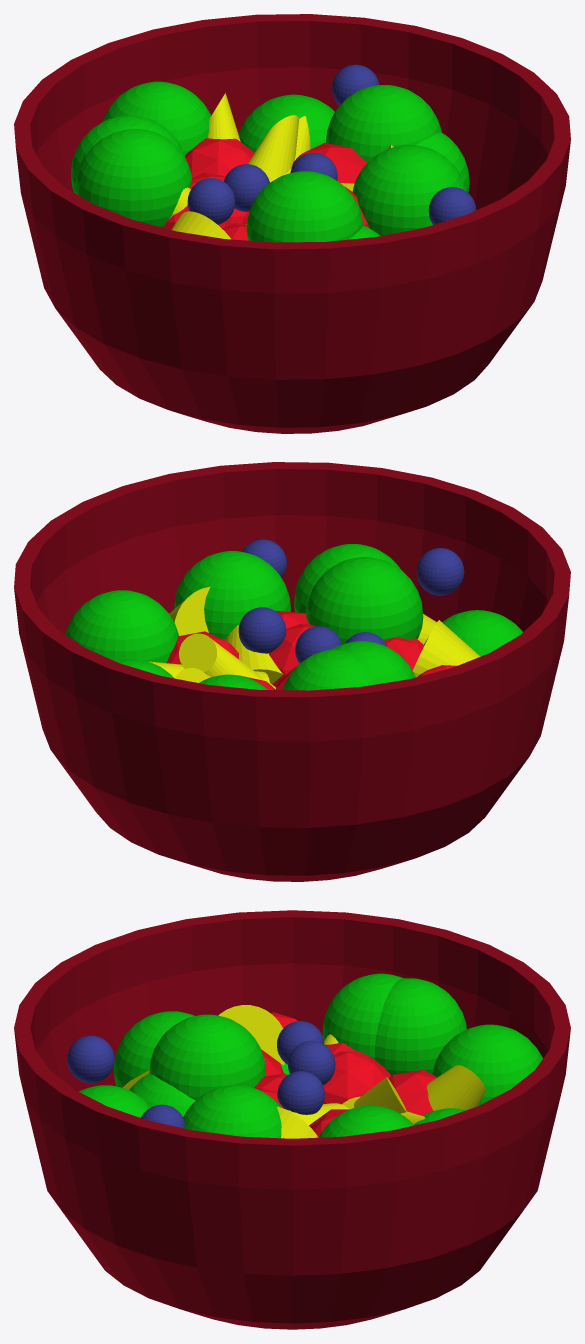
File: Saladier.fbx
3 renders of one model, top to bottom at view 1: azimuth 30°, elevation 25°; view 2: azimuth 150°, elevation 25°; view 3: azimuth 270°, elevation 25°, orthographic.
Visible parts, largest first — view 1: Cylinder, Sphere.002, Sphere.022, Sphere.029, Sphere.001, Sphere.030, Sphere.031, Cylinder.008, Icosphere.014, Sphere.021, Sphere.019, Sphere.004 (+7 smaller); view 2: Cylinder, Sphere.029, Sphere.001, Sphere.022, Sphere.021, Sphere.020, Cylinder.008, Sphere.023, Cylinder.007, Sphere.016, Sphere.002, Sphere.027 (+8 smaller); view 3: Cylinder, Sphere.029, Sphere.021, Sphere.030, Sphere.022, Sphere.002, Sphere.020, Icosphere, Cylinder.002, Sphere.001, Sphere.016, Sphere.027 (+9 smaller).
Part boxes in pixels (bbox=[...]): Cylinder: bbox=[14, 14, 570, 433]; Sphere.002: bbox=[75, 129, 192, 227]; Sphere.022: bbox=[352, 145, 466, 235]; Sphere.029: bbox=[246, 171, 363, 242]; Sphere.001: bbox=[326, 85, 441, 162]; Sphere.030: bbox=[103, 81, 211, 155]; Sphere.031: bbox=[238, 94, 334, 152]; Cylinder.008: bbox=[248, 115, 298, 178]; Icosphere.014: bbox=[185, 138, 254, 177]; Sphere.021: bbox=[71, 115, 185, 193]; Sphere.019: bbox=[187, 178, 235, 224]; Sphere.004: bbox=[224, 164, 269, 211]; Cylinder: bbox=[14, 462, 570, 881]; Sphere.029: bbox=[306, 557, 423, 644]; Sphere.001: bbox=[65, 590, 178, 662]; Sphere.022: bbox=[174, 551, 290, 638]; Sphere.021: bbox=[283, 649, 376, 690]; Sphere.020: bbox=[424, 610, 522, 656]; Cylinder.008: bbox=[179, 633, 275, 688]; Sphere.023: bbox=[294, 544, 400, 613]; Cylinder.007: bbox=[412, 620, 480, 677]; Sphere.016: bbox=[416, 548, 464, 595]; Sphere.002: bbox=[332, 641, 415, 684]; Sphere.027: bbox=[238, 607, 286, 653]; Cylinder: bbox=[14, 910, 570, 1329]; Sphere.029: bbox=[149, 1014, 266, 1100]; Sphere.021: bbox=[374, 978, 466, 1075]; Sphere.030: bbox=[432, 1024, 542, 1106]; Sphere.022: bbox=[183, 1085, 281, 1138]; Sphere.002: bbox=[322, 973, 403, 1059]; Sphere.020: bbox=[113, 1011, 194, 1087]; Icosphere: bbox=[323, 1051, 390, 1104]; Cylinder.002: bbox=[427, 1065, 485, 1110]; Sphere.001: bbox=[319, 1105, 413, 1137]; Sphere.016: bbox=[67, 1035, 114, 1083]; Sphere.027: bbox=[277, 1071, 324, 1114].
Size of the model in its own units: 951 by 456 by 951.
